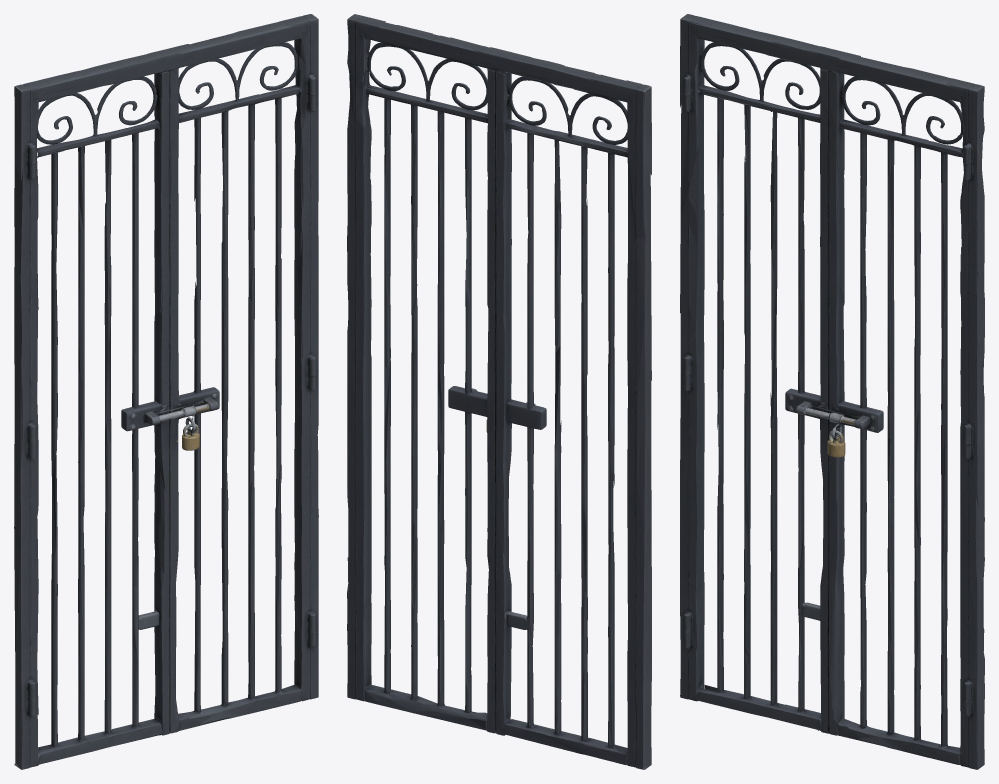
Rendered from w4gate.glb.
3 views of the same model, side by side, from view 1: azimuth 30°, elevation 25°; view 2: azimuth 150°, elevation 25°; view 3: azimuth 330°, elevation 25° (orthographic).
Parts seen in each view (by area): view 1: output_unwrapped; view 2: output_unwrapped; view 3: output_unwrapped.
Part boxes in pixels (x1,y1,x2,y2): output_unwrapped: [14, 14, 318, 769]; output_unwrapped: [347, 14, 651, 769]; output_unwrapped: [680, 14, 984, 769].
Bounding box in the file's own units: 0.964 × 2.1 × 0.102.
1 material, 1 textured.
